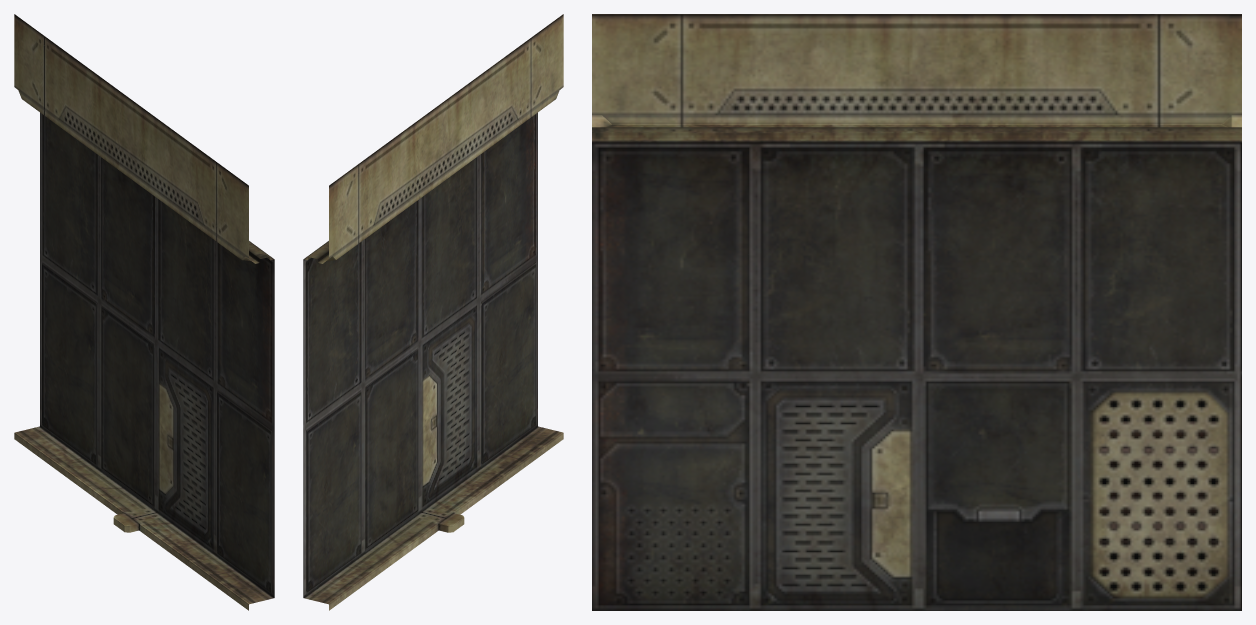
File: pplant_ground_hatch.dae
3 views of the same model, side by side, from view 1: azimuth 30°, elevation 25°; view 2: azimuth 150°, elevation 25°; view 3: azimuth 270°, elevation 25° (orthographic). The views are drawn at different scales.
Visible parts, largest first — view 1: ground_hatch; view 2: ground_hatch; view 3: ground_hatch.
Part boxes in pixels (x1,y1,x2,y2): ground_hatch: (14, 14, 274, 610); ground_hatch: (303, 14, 563, 610); ground_hatch: (592, 14, 1241, 610).
Size of the model in its own units: 0.375 by 4 by 4.
